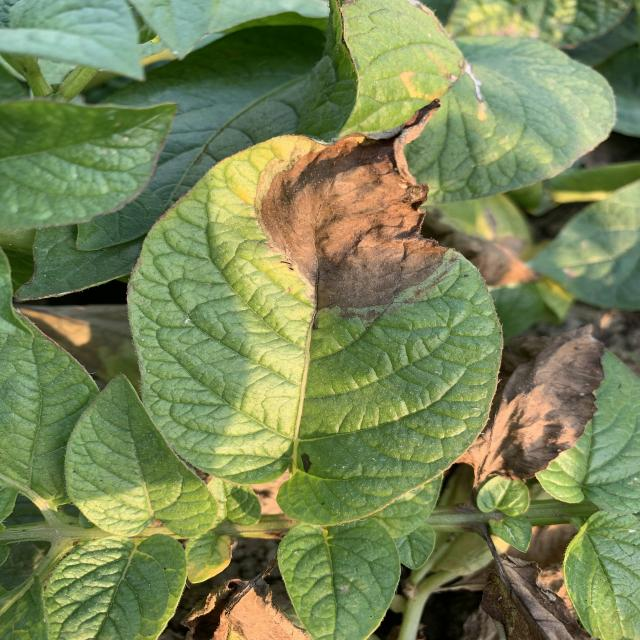lateblight: (258, 101, 447, 311), (500, 325, 603, 479)
